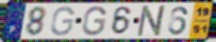6: (109, 6, 133, 36), (168, 6, 189, 36)
8: (25, 5, 49, 38)
G: (49, 6, 76, 37), (81, 6, 108, 37)
N: (135, 4, 169, 38)
